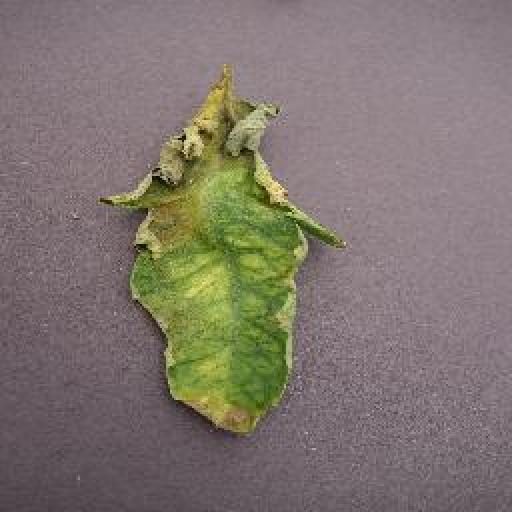Late Blight: (104, 68, 349, 439)
